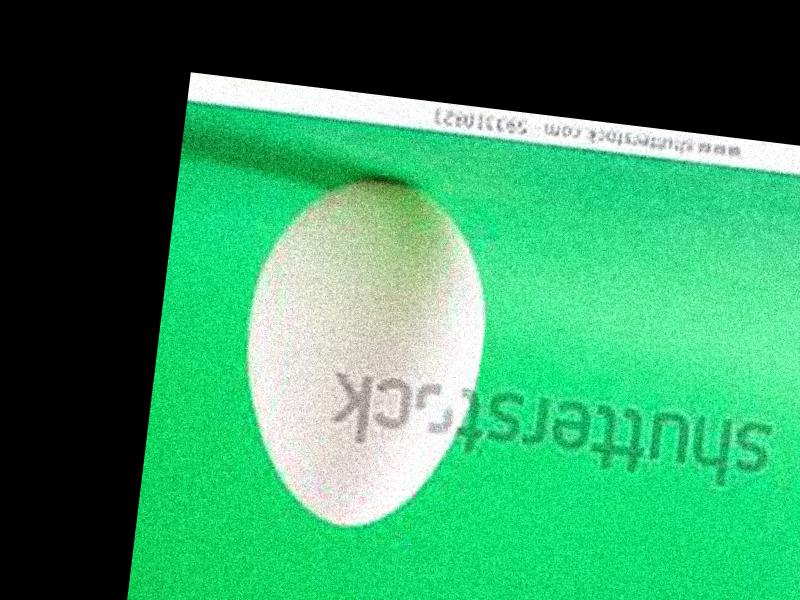Eggs: (224, 161, 500, 538)
